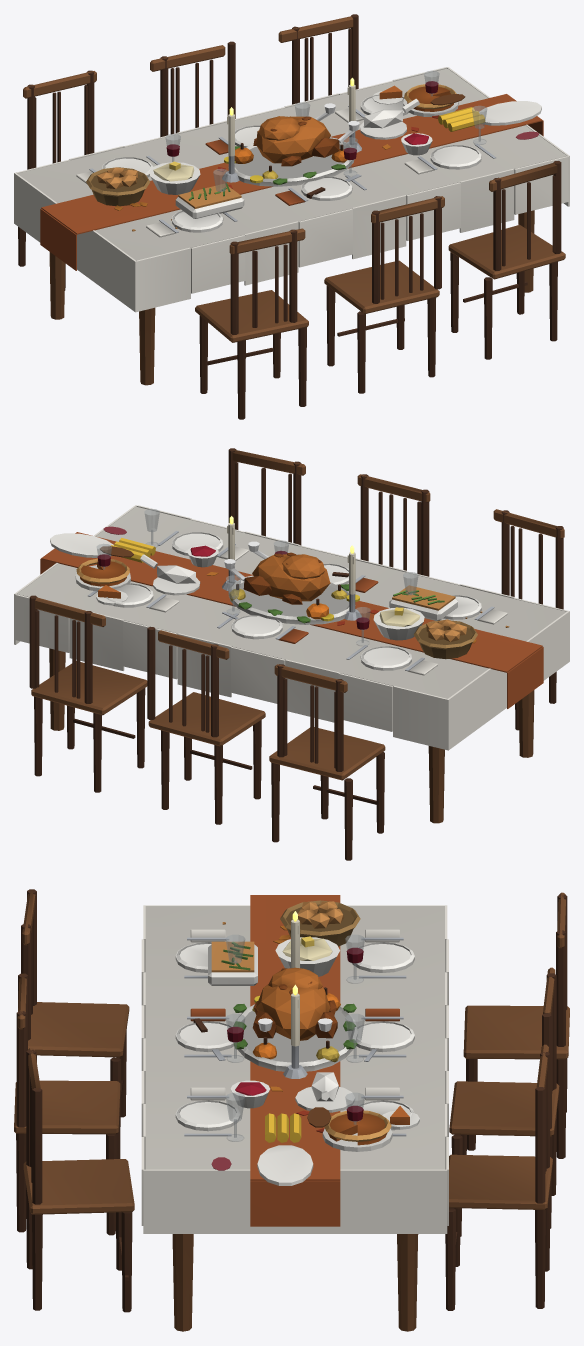
Rendered from feast_table.glb.
The picture shows the model from 3 angles, top to bottom: view 1: azimuth 30°, elevation 25°; view 2: azimuth 150°, elevation 25°; view 3: azimuth 270°, elevation 25°; orthographic projection. The views are drawn at different scales.
Visible parts, largest first — view 1: feast_table; view 2: feast_table; view 3: feast_table.
Part boxes in pixels (box(x1,y1,x2,y2)): feast_table: box(14, 14, 569, 419); feast_table: box(14, 448, 569, 860); feast_table: box(14, 889, 569, 1331).
Bounding box in the file's own units: 2.77 × 1.17 × 2.23.
